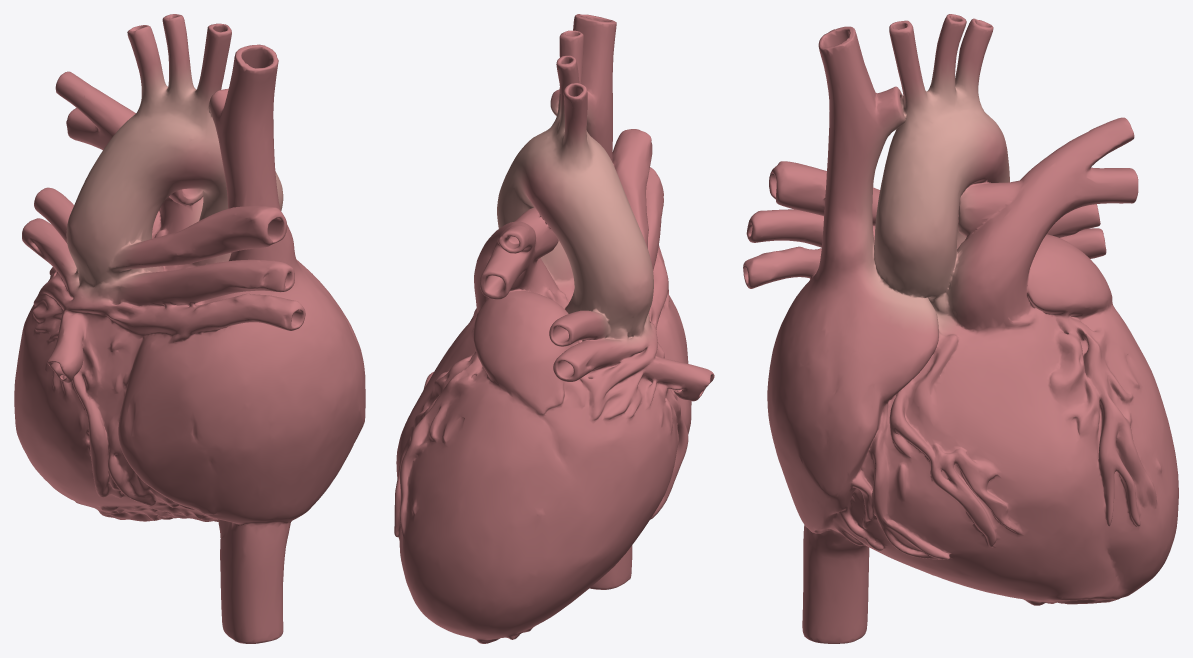
Rendered from heart.glb.
3 views of the same model, side by side, from view 1: azimuth 30°, elevation 25°; view 2: azimuth 150°, elevation 25°; view 3: azimuth 270°, elevation 25° (orthographic). The views are drawn at different scales.
Parts seen in each view (by area): view 1: heart; view 2: heart; view 3: heart.
Part boxes in pixels (x1=…): heart: x1=14, y1=14, x2=365, y2=643; heart: x1=394, y1=14, x2=714, y2=643; heart: x1=743, y1=14, x2=1178, y2=643.
Bounding box in the file's own units: 0.503 × 1 × 0.651.
